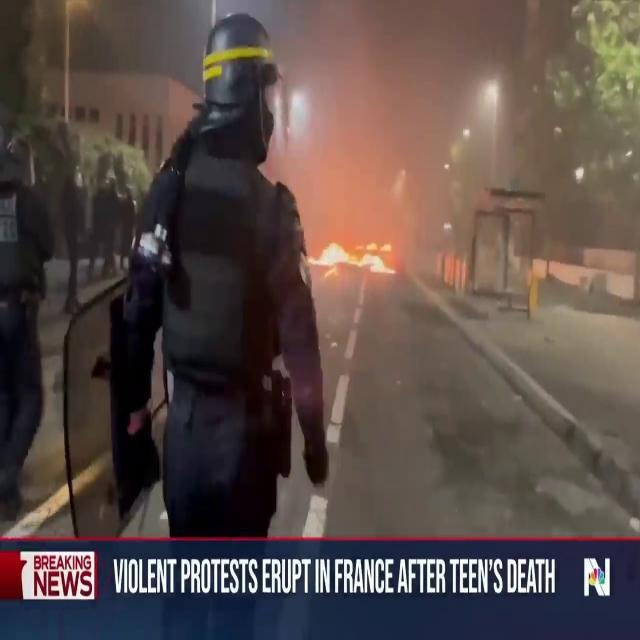Fire: (314, 222, 396, 282)
